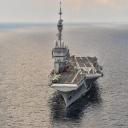Portanaves: (49, 1, 106, 111)
